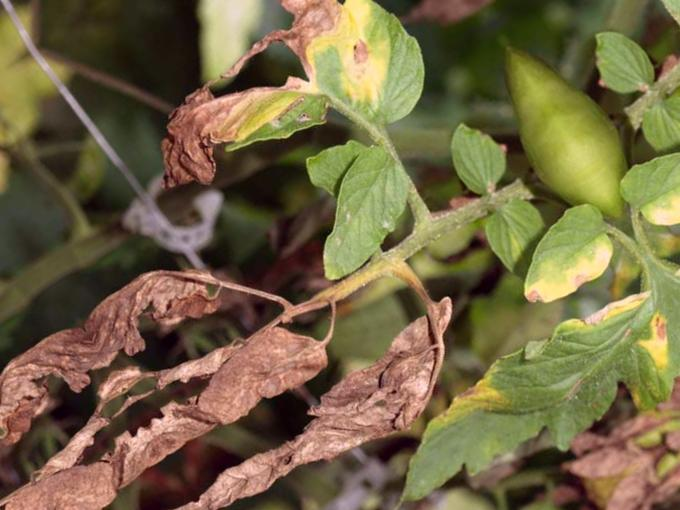Tomato Early blight leaf: (360, 275, 680, 510), (253, 0, 462, 151), (485, 185, 644, 333)
Tomato leaf: (273, 132, 436, 293)
